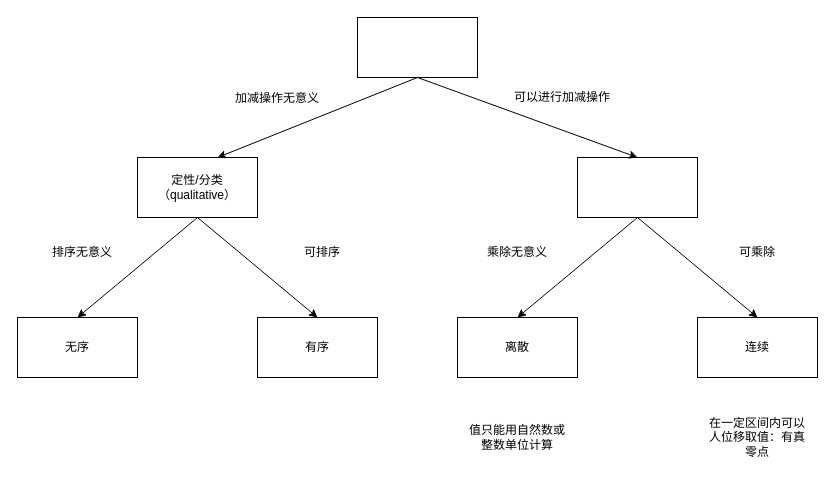
Some shapes in this 835 by 495 pixel diagram are drawn without their labels. The shapes that lost their labels are listed below. From the top down, each one's centre as x and y in pixels, then its label:
At point 417,47: "变量".
At point 637,187: "定量/分类 （quantitative）".
